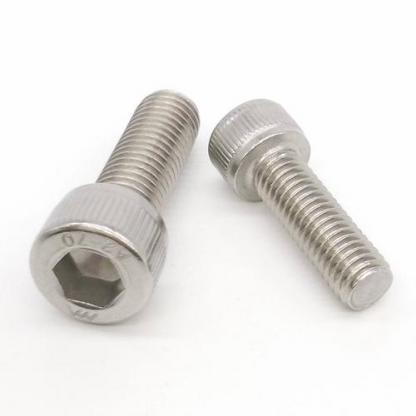FOD: (27, 86, 202, 328), (206, 98, 396, 312)
